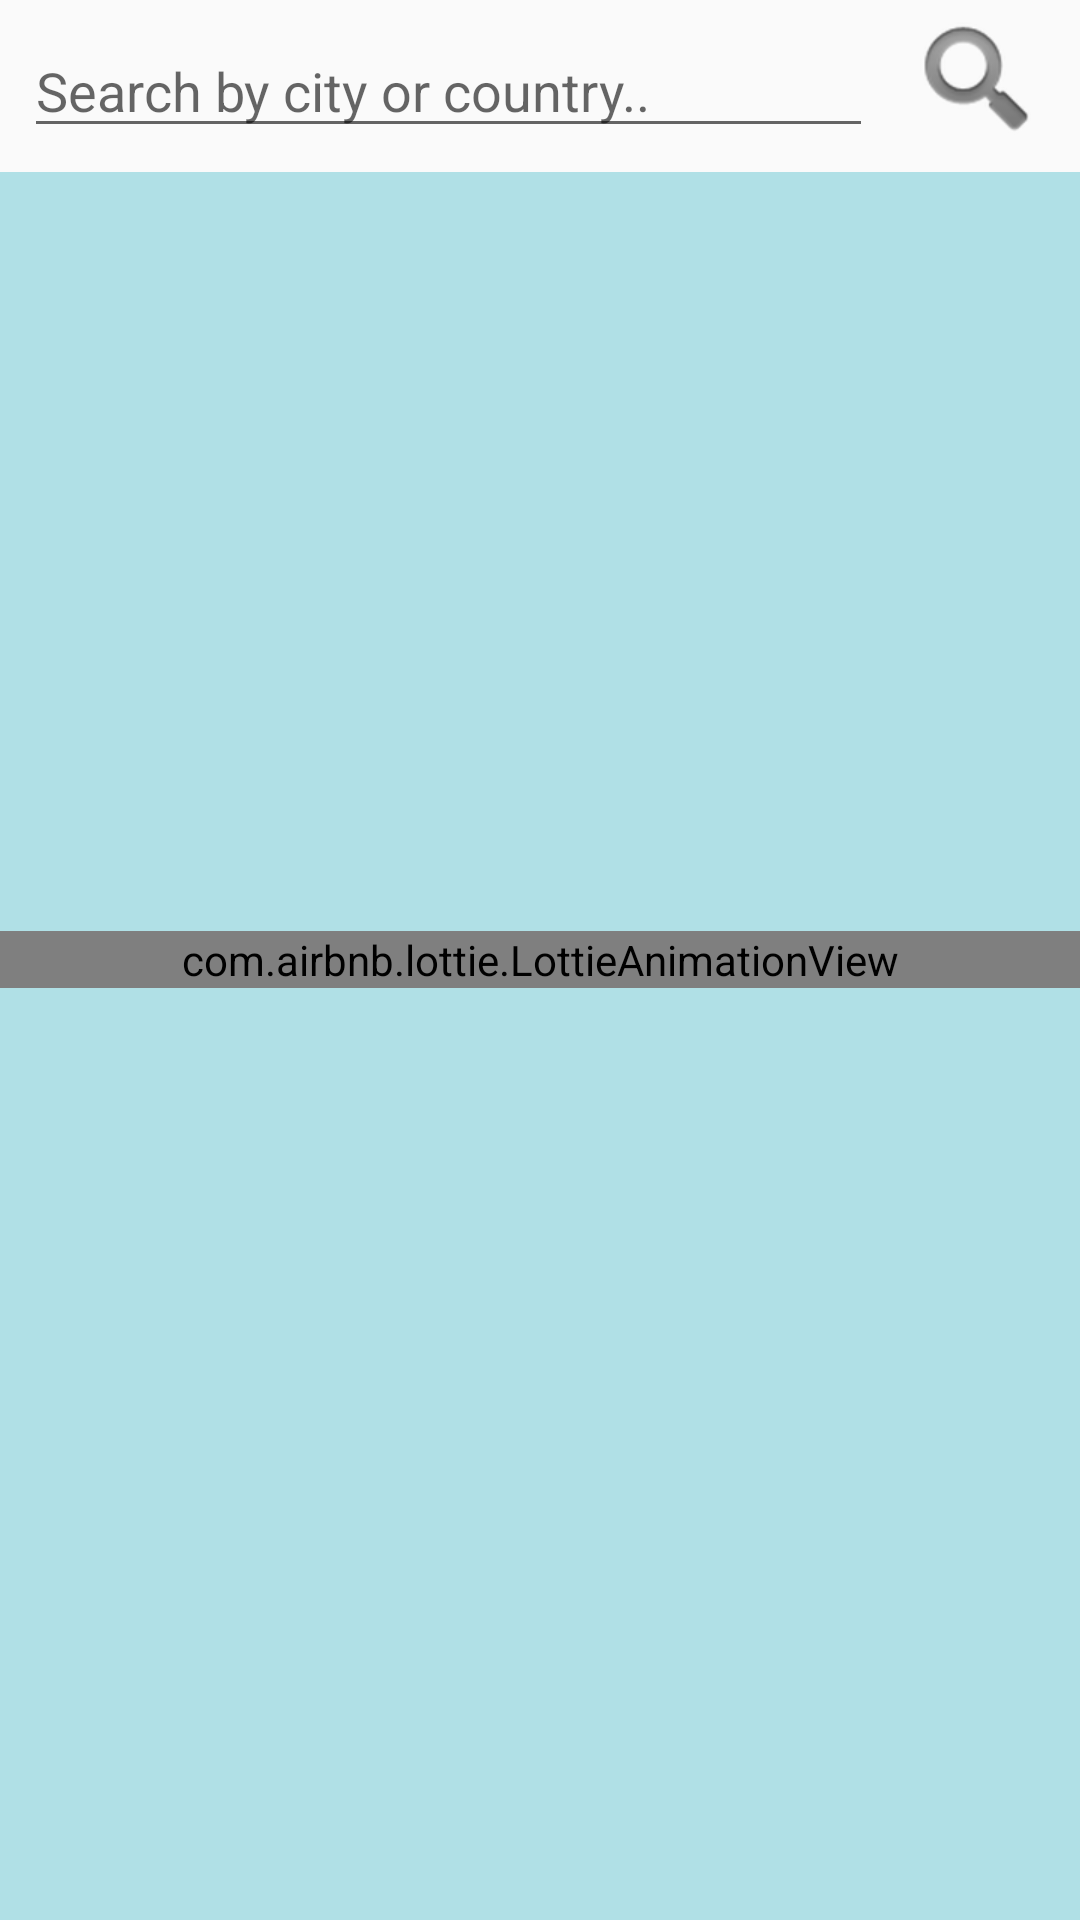

Icons on this 1080 × 1920 Android screen, each with the point to tap as (x,y):
search category: (976,78)
